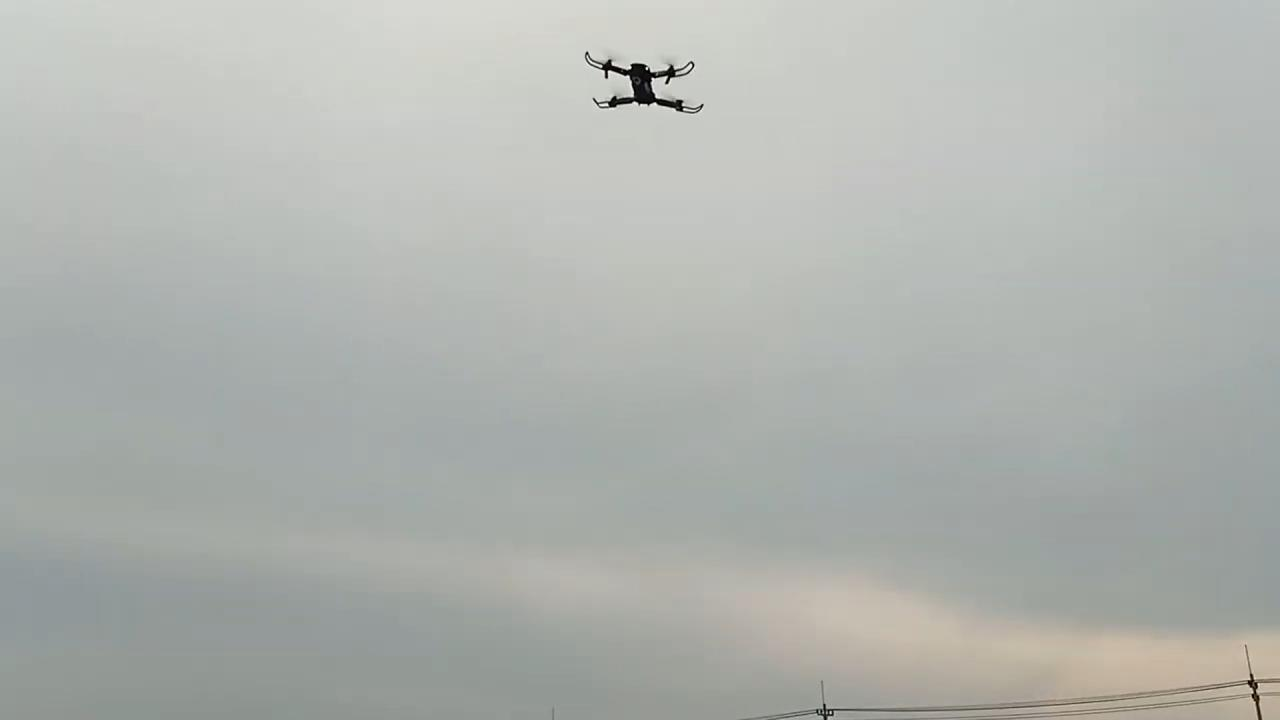Drone: (568, 35, 716, 132)
